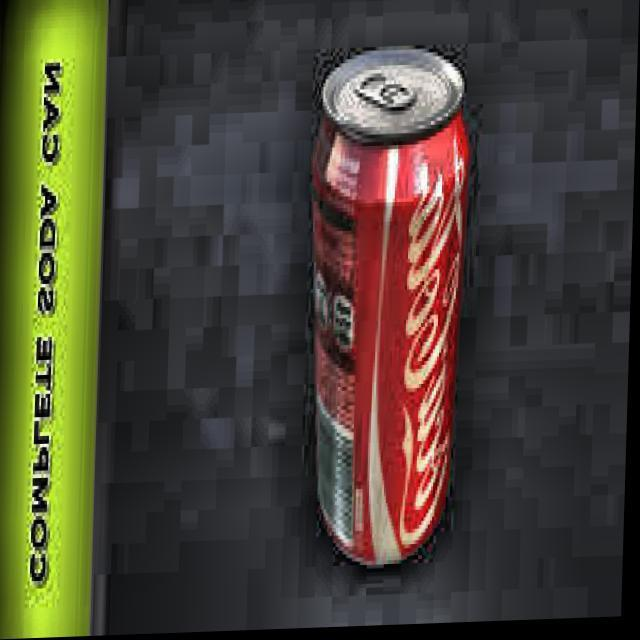can: (294, 39, 473, 574)
